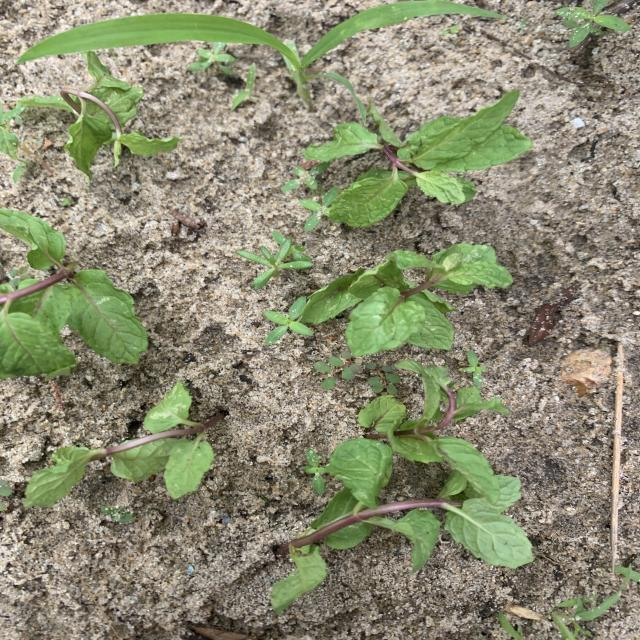crop: (272, 438, 532, 613), (303, 90, 531, 227), (0, 209, 148, 378), (24, 384, 225, 507), (299, 243, 512, 356), (358, 363, 509, 499), (18, 51, 180, 174)
weed: (18, 0, 501, 121), (551, 578, 627, 640), (236, 232, 313, 290), (0, 102, 54, 183), (555, 0, 631, 47), (264, 297, 311, 344), (300, 187, 339, 231), (281, 161, 330, 192), (314, 357, 361, 389), (189, 42, 236, 74), (230, 63, 257, 110), (363, 362, 401, 395), (301, 448, 325, 495), (459, 351, 487, 388), (101, 506, 135, 523), (500, 613, 521, 640)
